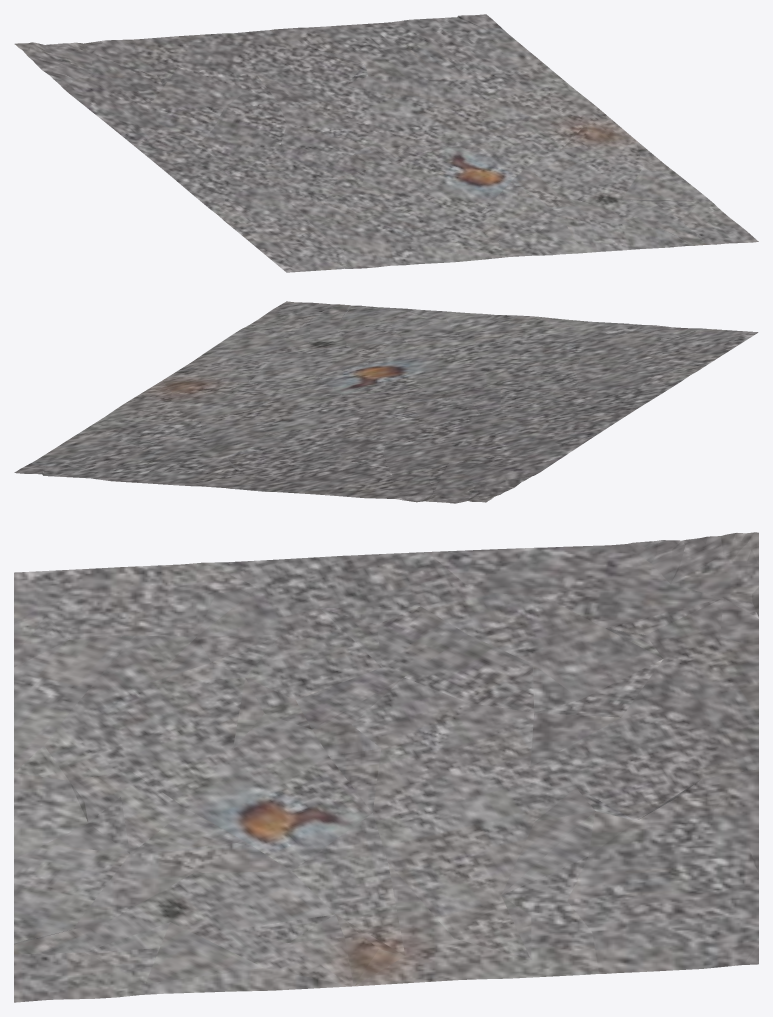
The picture shows the model from 3 angles, top to bottom: view 1: azimuth 30°, elevation 25°; view 2: azimuth 150°, elevation 25°; view 3: azimuth 270°, elevation 25°; orthographic projection. The views are drawn at different scales.
Bounding box in the file's own units: 0.8373 × 0.1928 × 0.8374.
Materials: 3 (3 with a texture image).
